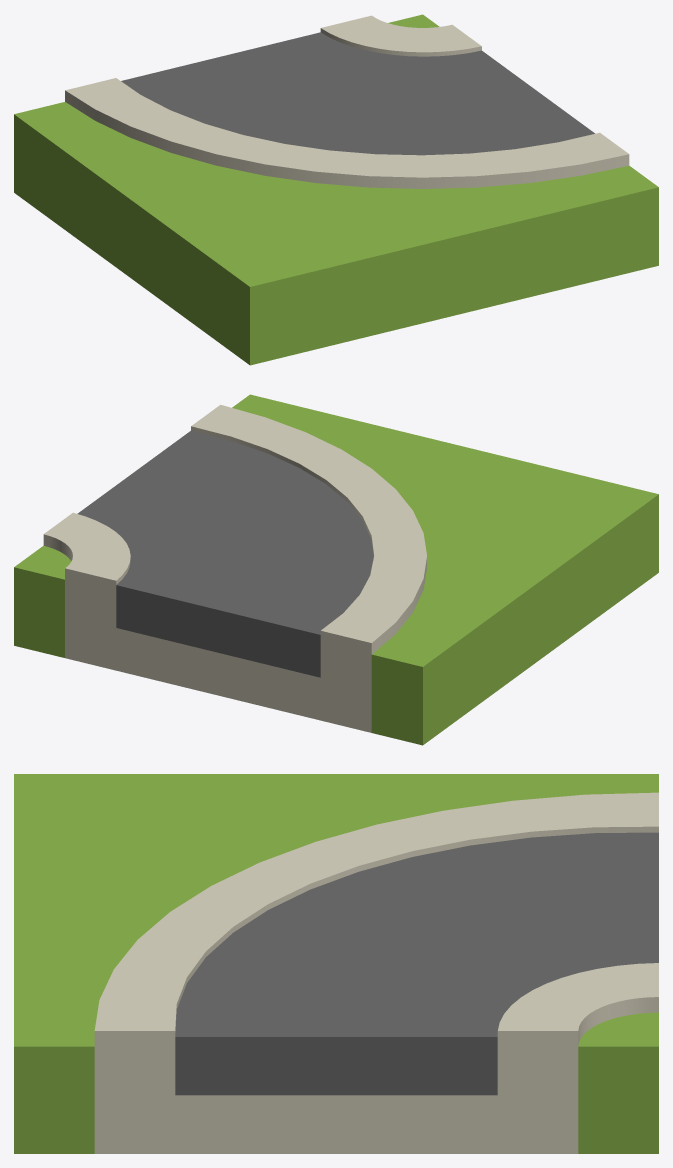
Rendered from road-one-way-curve-sidewalk-grass-13.obj.
3 views of the same model, one above another, from view 1: azimuth 30°, elevation 25°; view 2: azimuth 150°, elevation 25°; view 3: azimuth 270°, elevation 25° (orthographic). The views are drawn at different scales.
Parts seen in each view (by area): view 1: Mesh1_Group1_Model.152; view 2: Mesh1_Group1_Model.152; view 3: Mesh1_Group1_Model.152.
Part boxes in pixels (x1,y1,x2,y2): Mesh1_Group1_Model.152: (14, 14, 658, 365); Mesh1_Group1_Model.152: (14, 394, 658, 745); Mesh1_Group1_Model.152: (14, 774, 658, 1153).
Bounding box in the file's own units: 3 × 0.63 × 3.
